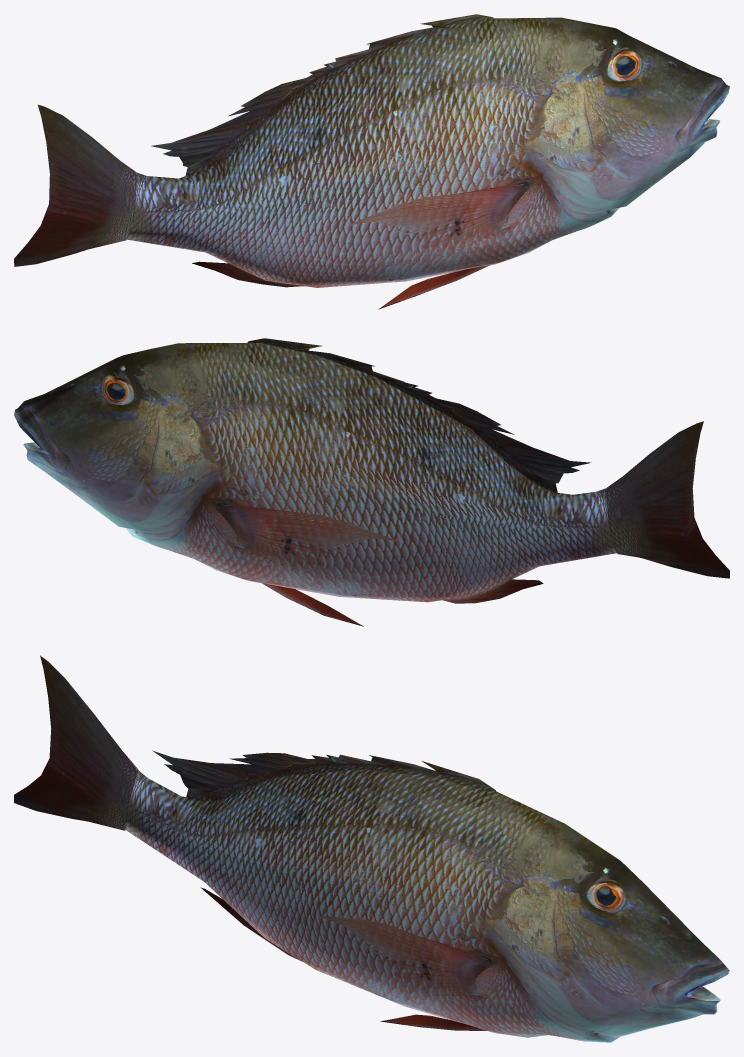
Rendered from fish.glb.
3 views of the same model, one above another, from view 1: azimuth 30°, elevation 25°; view 2: azimuth 150°, elevation 25°; view 3: azimuth 330°, elevation 25° (orthographic).
Visible parts, largest first — view 1: Line01; view 2: Line01; view 3: Line01.
Boxes of the visible parts, x1,y1,x2,y2 form: Line01: (14, 14, 729, 309); Line01: (14, 338, 729, 626); Line01: (14, 655, 729, 1042).
Bounding box in the file's own units: 12.04 × 4.64 × 1.23.
Materials: 1 (1 with a texture image).
